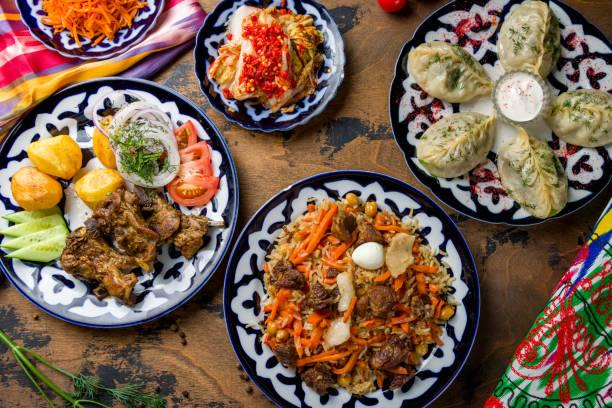Braised Crucian Carp: (222, 168, 474, 405), (0, 75, 236, 327), (390, 0, 609, 227), (193, 1, 343, 135)
